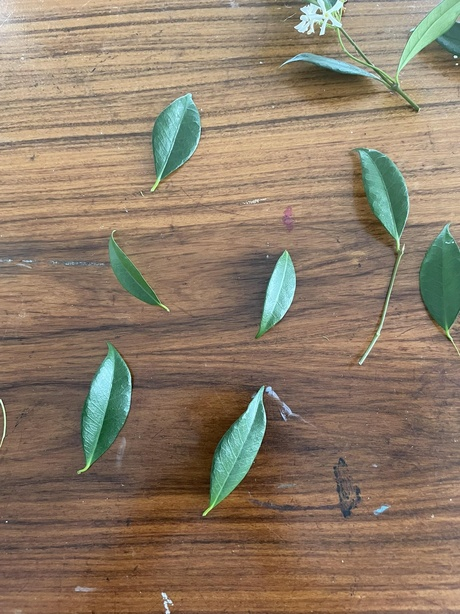leaf: (201, 372, 272, 519), (75, 339, 135, 469), (351, 140, 413, 248), (104, 228, 172, 315), (148, 85, 204, 184), (415, 216, 460, 338), (249, 243, 298, 347)
